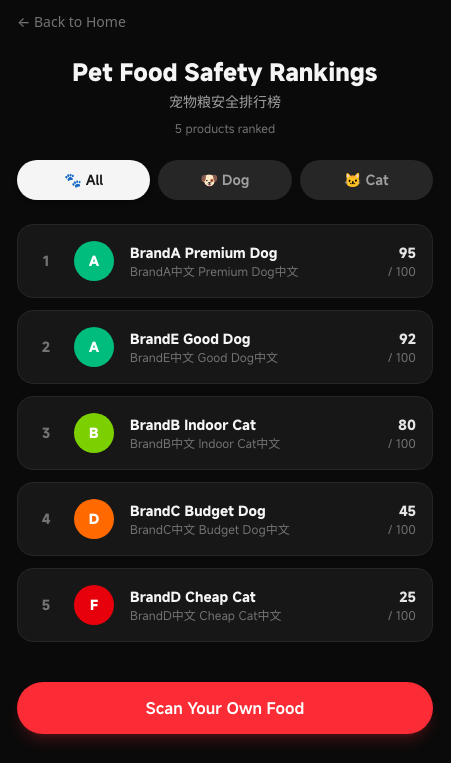
it: RankingClient › filters to cat food only
The width and height of the screenshot is (451, 763).
Click the button with test id "filter-cat": (366, 180) [300, 160, 433, 200]
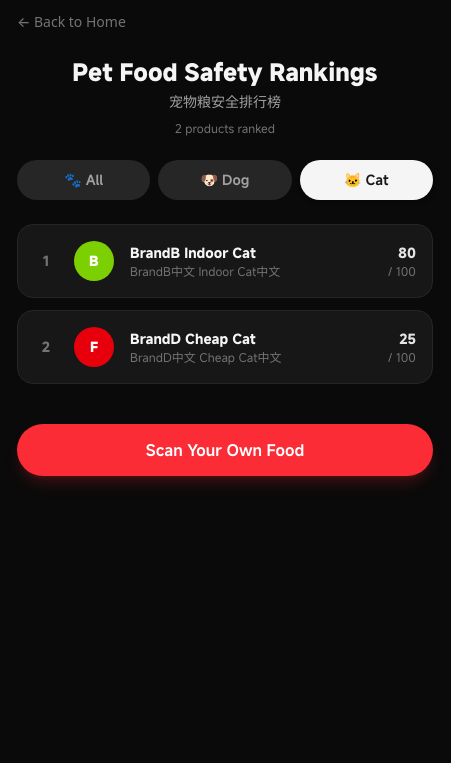
expect the text "BrandB Indoor Cat" is shown: met, box [130, 243, 256, 262]
expect the text "2 products ranked" is shown: met, box [175, 120, 275, 136]
expect the link "BrandA Premium Dog" is gone: met
